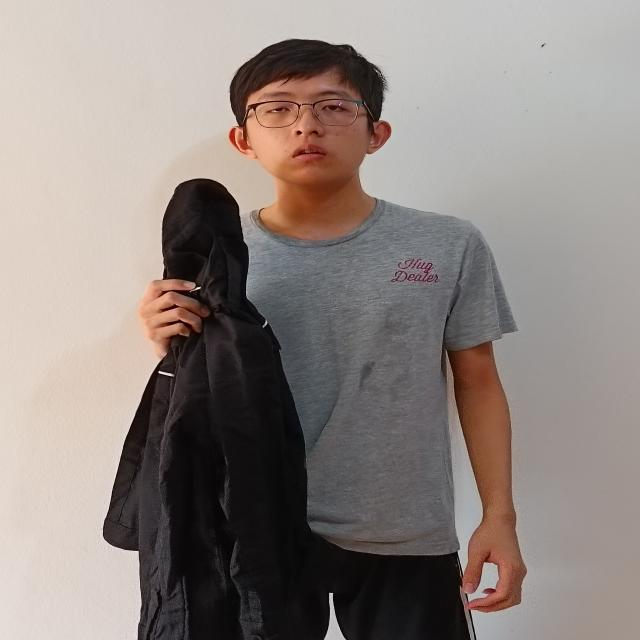person_without_labcoat: (103, 40, 526, 640)
